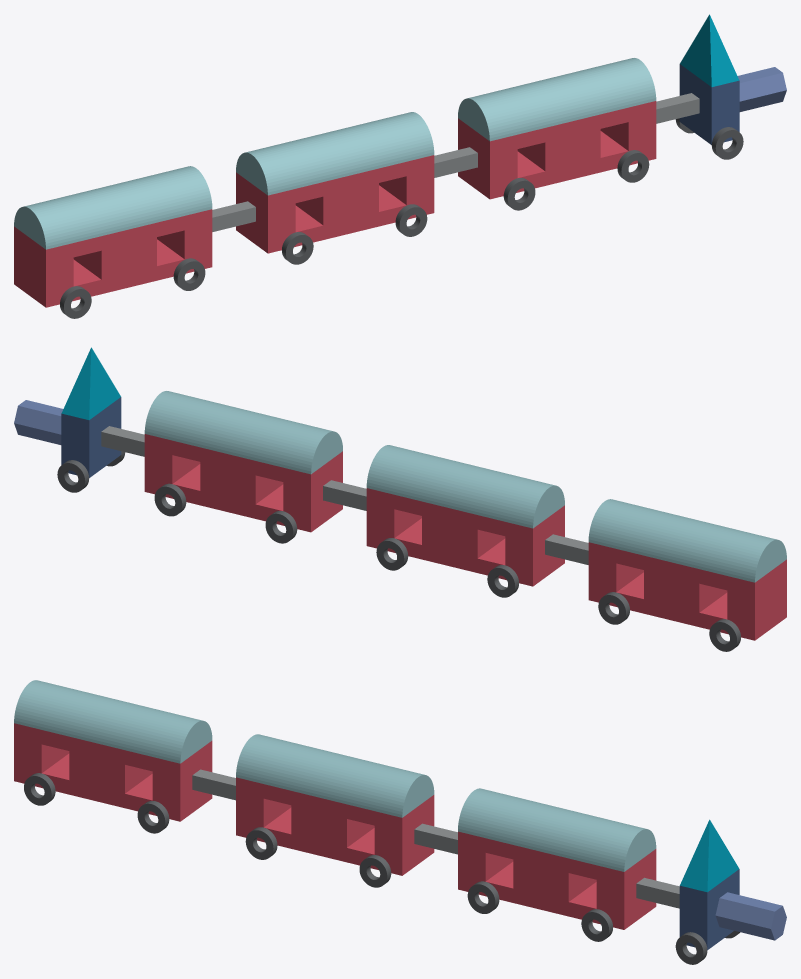
Rendered from Fabulous Lappi-Amur.glb.
3 renders of one model, top to bottom at view 1: azimuth 30°, elevation 25°; view 2: azimuth 150°, elevation 25°; view 3: azimuth 330°, elevation 25°, orthographic.
Parts seen in each view (by area): view 1: Mesh_Mesh_head_geo.001_lambert2SG.001; view 2: Mesh_Mesh_head_geo.001_lambert2SG.001; view 3: Mesh_Mesh_head_geo.001_lambert2SG.001.
Part boxes in pixels (x1,y1,x2,y2): Mesh_Mesh_head_geo.001_lambert2SG.001: [14, 14, 786, 318]; Mesh_Mesh_head_geo.001_lambert2SG.001: [14, 347, 786, 651]; Mesh_Mesh_head_geo.001_lambert2SG.001: [14, 680, 786, 964].
Size of the model in its own units: 270 by 45 by 25.
